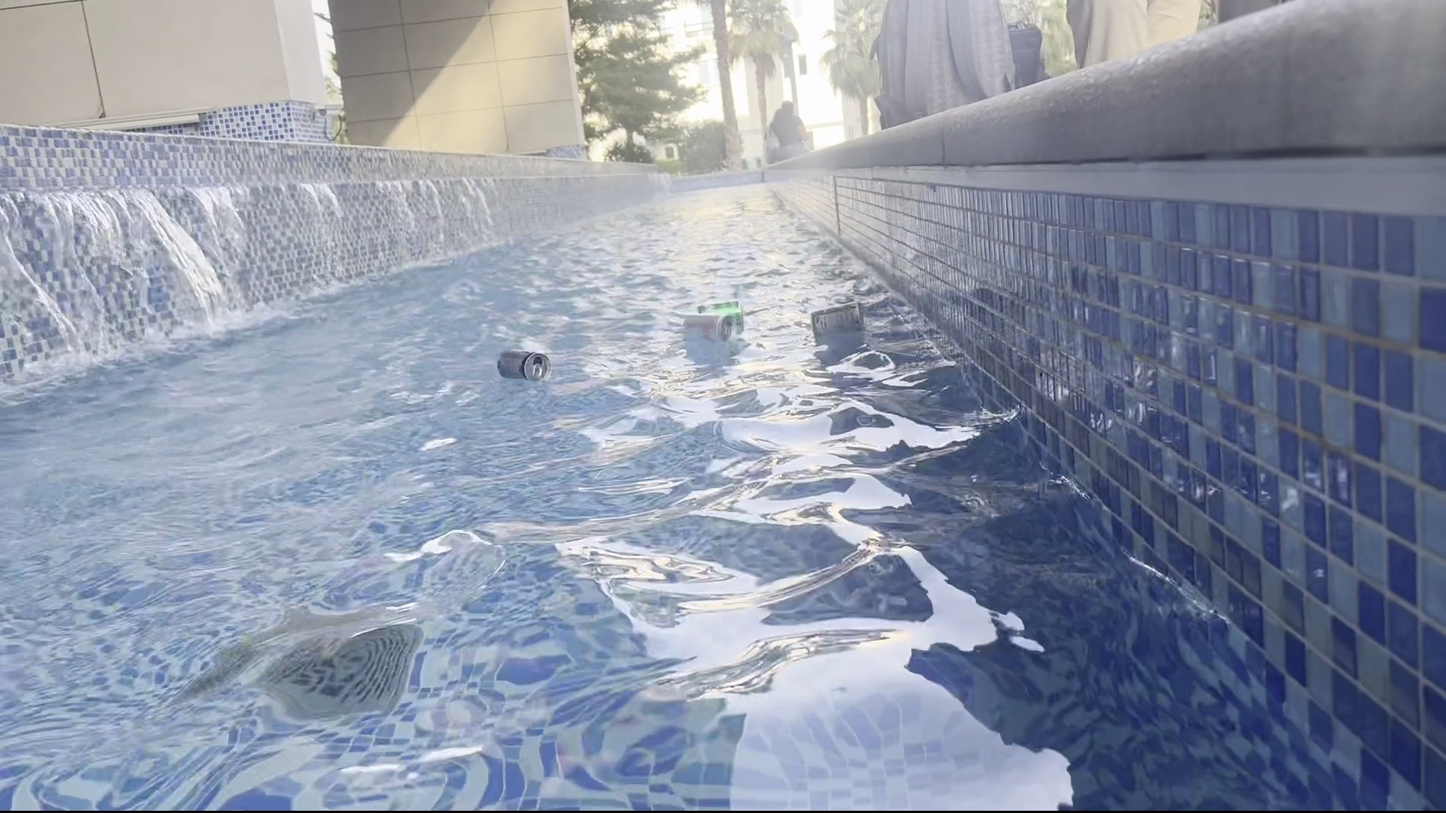debris: (495, 343, 552, 384), (806, 301, 868, 336), (679, 308, 734, 346), (694, 297, 744, 330)
